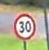limite 30: (10, 11, 36, 39)
